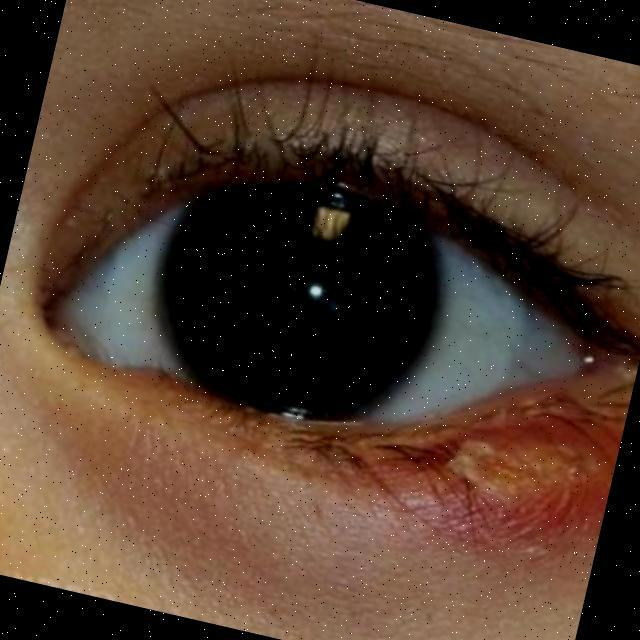Stye: (386, 376, 625, 602)
